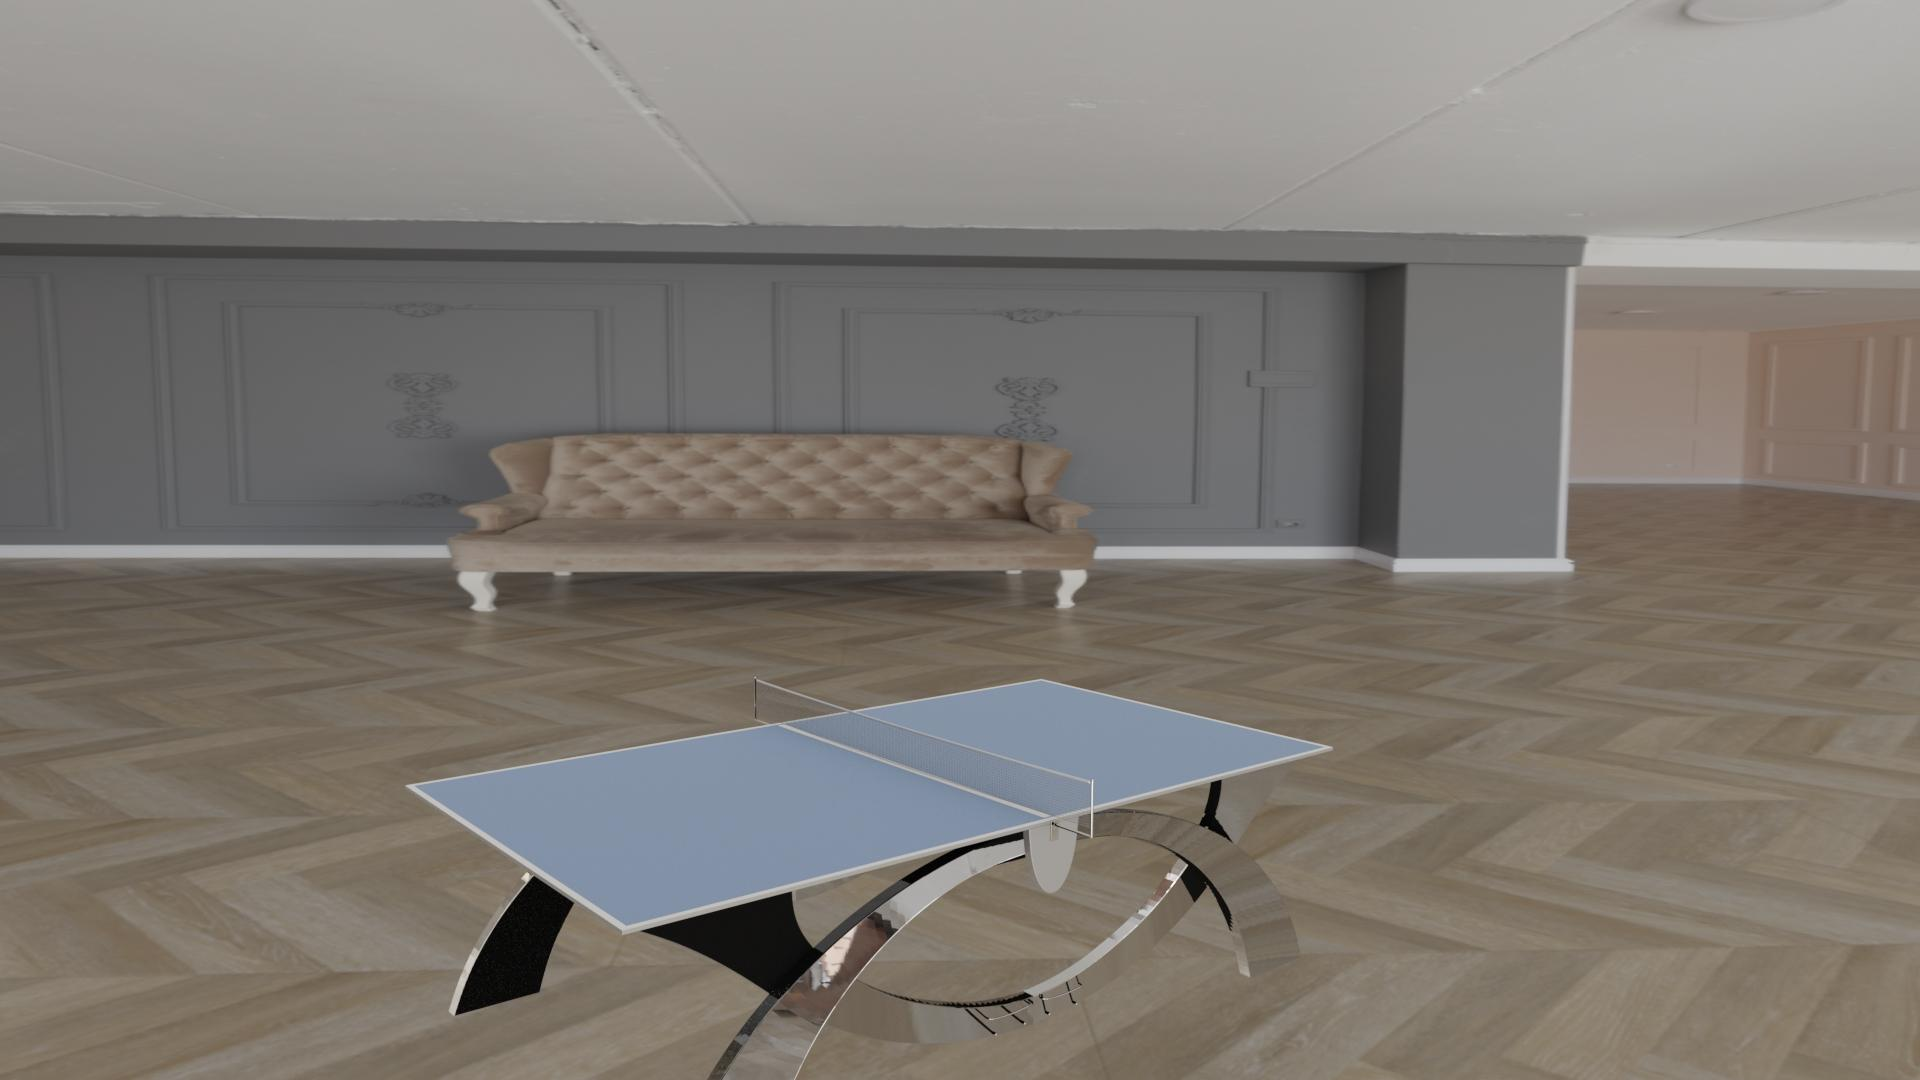table: (414, 680, 1325, 926)
